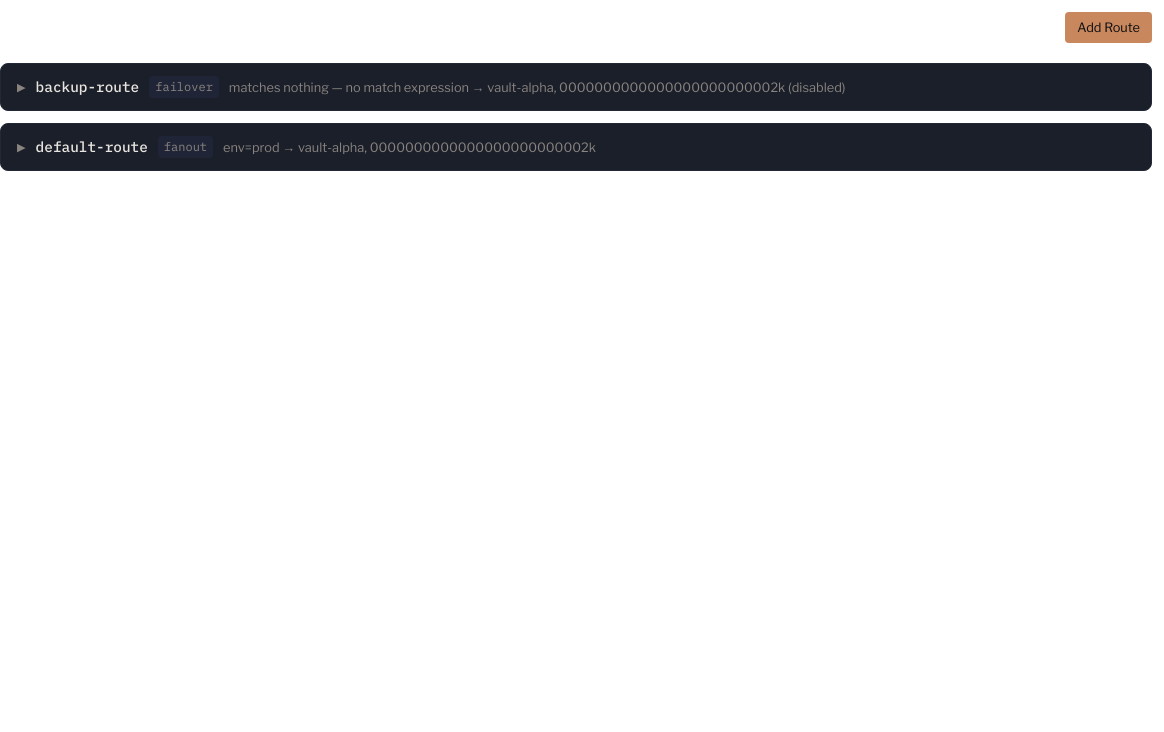
Scenario: route destinations eligibility › a disabled vault is told apart from an enabled one, both selectable
Click the text "default-route" at (92, 147), box [36,136,148,158]
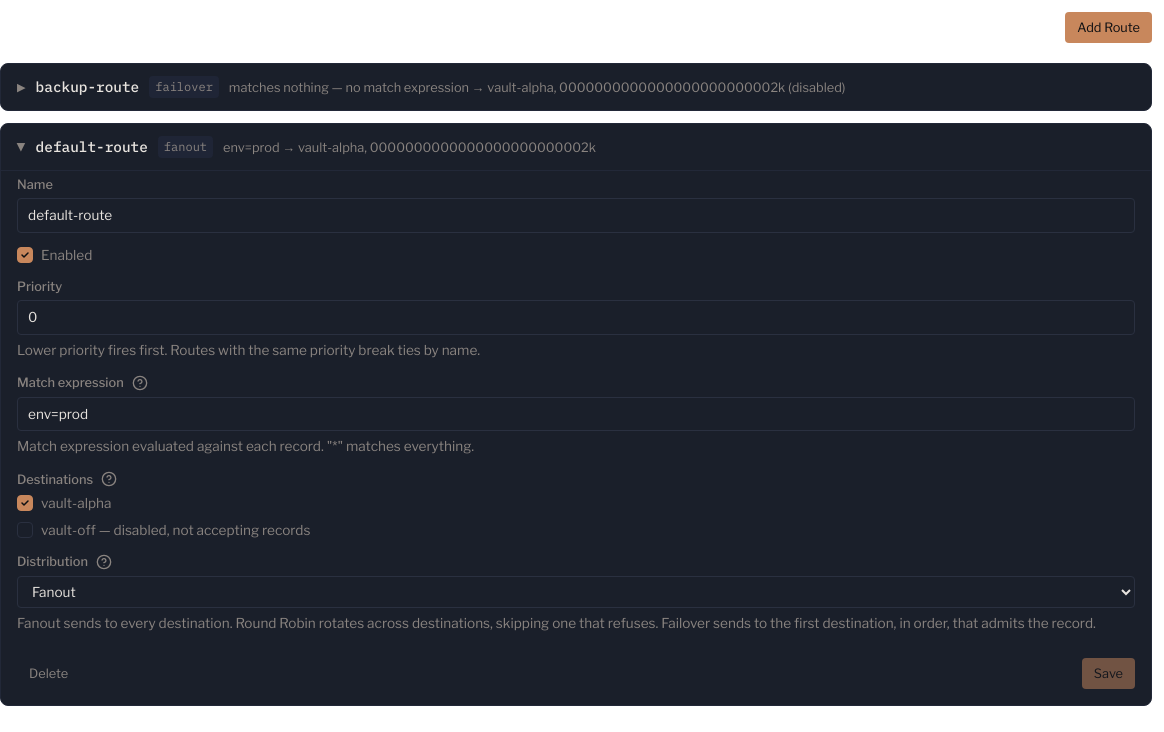
Check: the text "vault-alpha" is shown, box [41,493,112,514]
Check: the text "vault-off — disabled, not accepting records" is shown, box [41,520,310,540]
